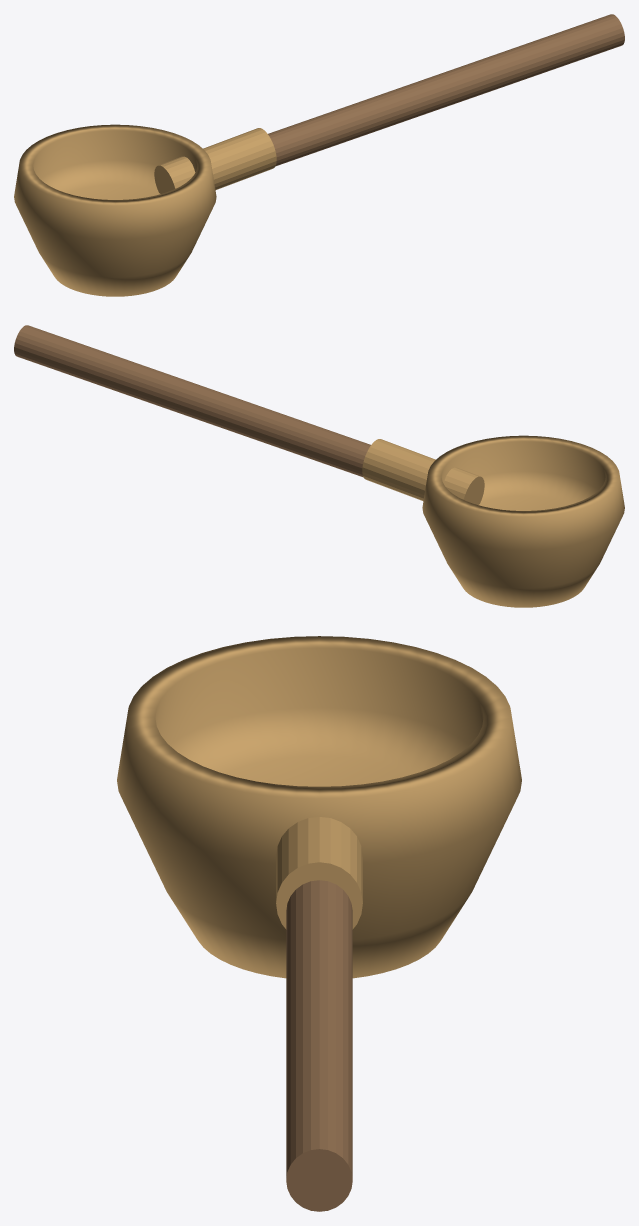
Rendered from fantasy-bathhouse-and-thermal-sanctuary-fantasy-bathho-f202d719__29464.glb.
3 renders of one model, top to bottom at view 1: azimuth 30°, elevation 25°; view 2: azimuth 150°, elevation 25°; view 3: azimuth 270°, elevation 25°, orthographic. The views are drawn at different scales.
Parts seen in each view (by area): view 1: fantasy-bathhouse-and-thermal-sanctuary-long-handled-dipper_ (×2); view 2: fantasy-bathhouse-and-thermal-sanctuary-long-handled-dipper_ (×2); view 3: fantasy-bathhouse-and-thermal-sanctuary-long-handled-dipper_ (×2).
Part boxes in pixels (<box>): fantasy-bathhouse-and-thermal-sanctuary-long-handled-dipper_ (×2): <box>14,14,624,296</box>; fantasy-bathhouse-and-thermal-sanctuary-long-handled-dipper_ (×2): <box>14,325,624,607</box>; fantasy-bathhouse-and-thermal-sanctuary-long-handled-dipper_ (×2): <box>117,636,521,1211</box>.
Bounding box in the file's own units: 0.9423 × 0.2029 × 0.28.
